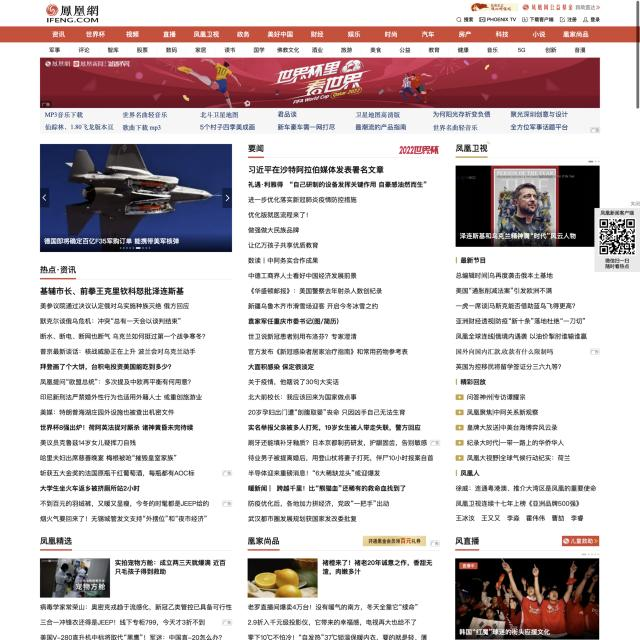logo: (42, 2, 102, 25)
navigation: (43, 28, 594, 41), (42, 44, 592, 57)
